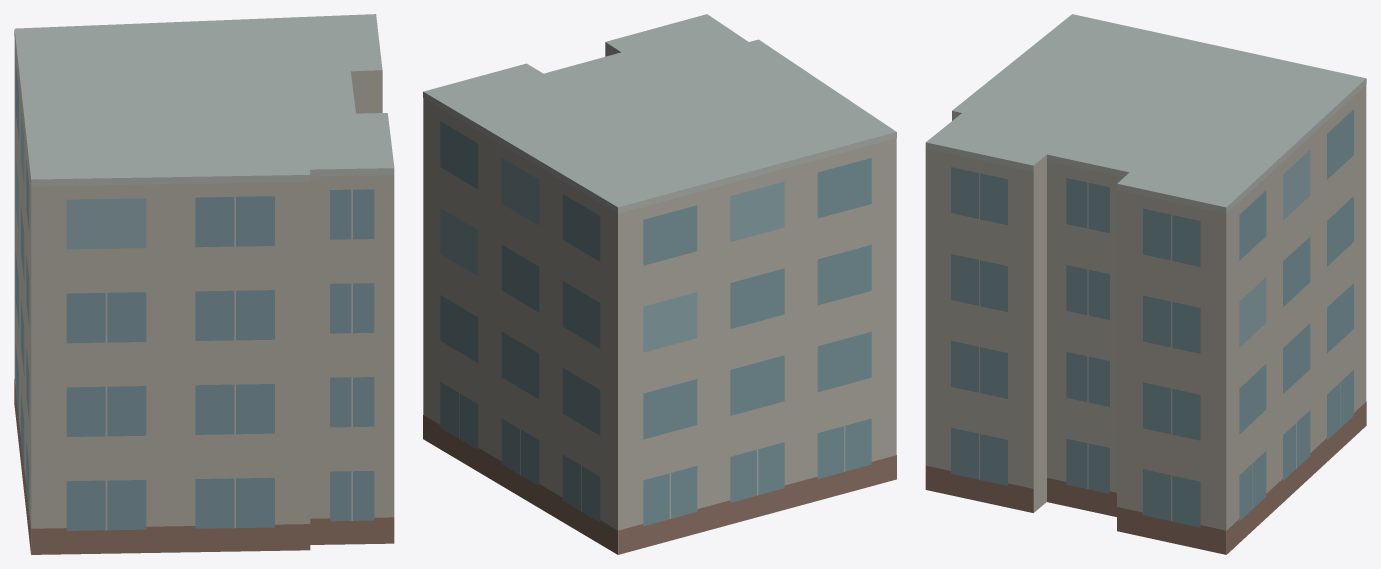
File: survey-upis-32679413.glb
3 renders of one model, left to right at view 1: azimuth 30°, elevation 25°; view 2: azimuth 150°, elevation 25°; view 3: azimuth 270°, elevation 25°, orthographic. The views are drawn at different scales.
Parts seen in each view (by area): view 1: survey-upis-32679413.tmp; view 2: survey-upis-32679413.tmp; view 3: survey-upis-32679413.tmp.
Boxes of the visible parts, x1,y1,x2,y2 form: survey-upis-32679413.tmp: (14,14,394,554); survey-upis-32679413.tmp: (423,14,896,554); survey-upis-32679413.tmp: (925,14,1366,554).
Bounding box in the file's own units: 15.92 × 13.32 × 15.33.
